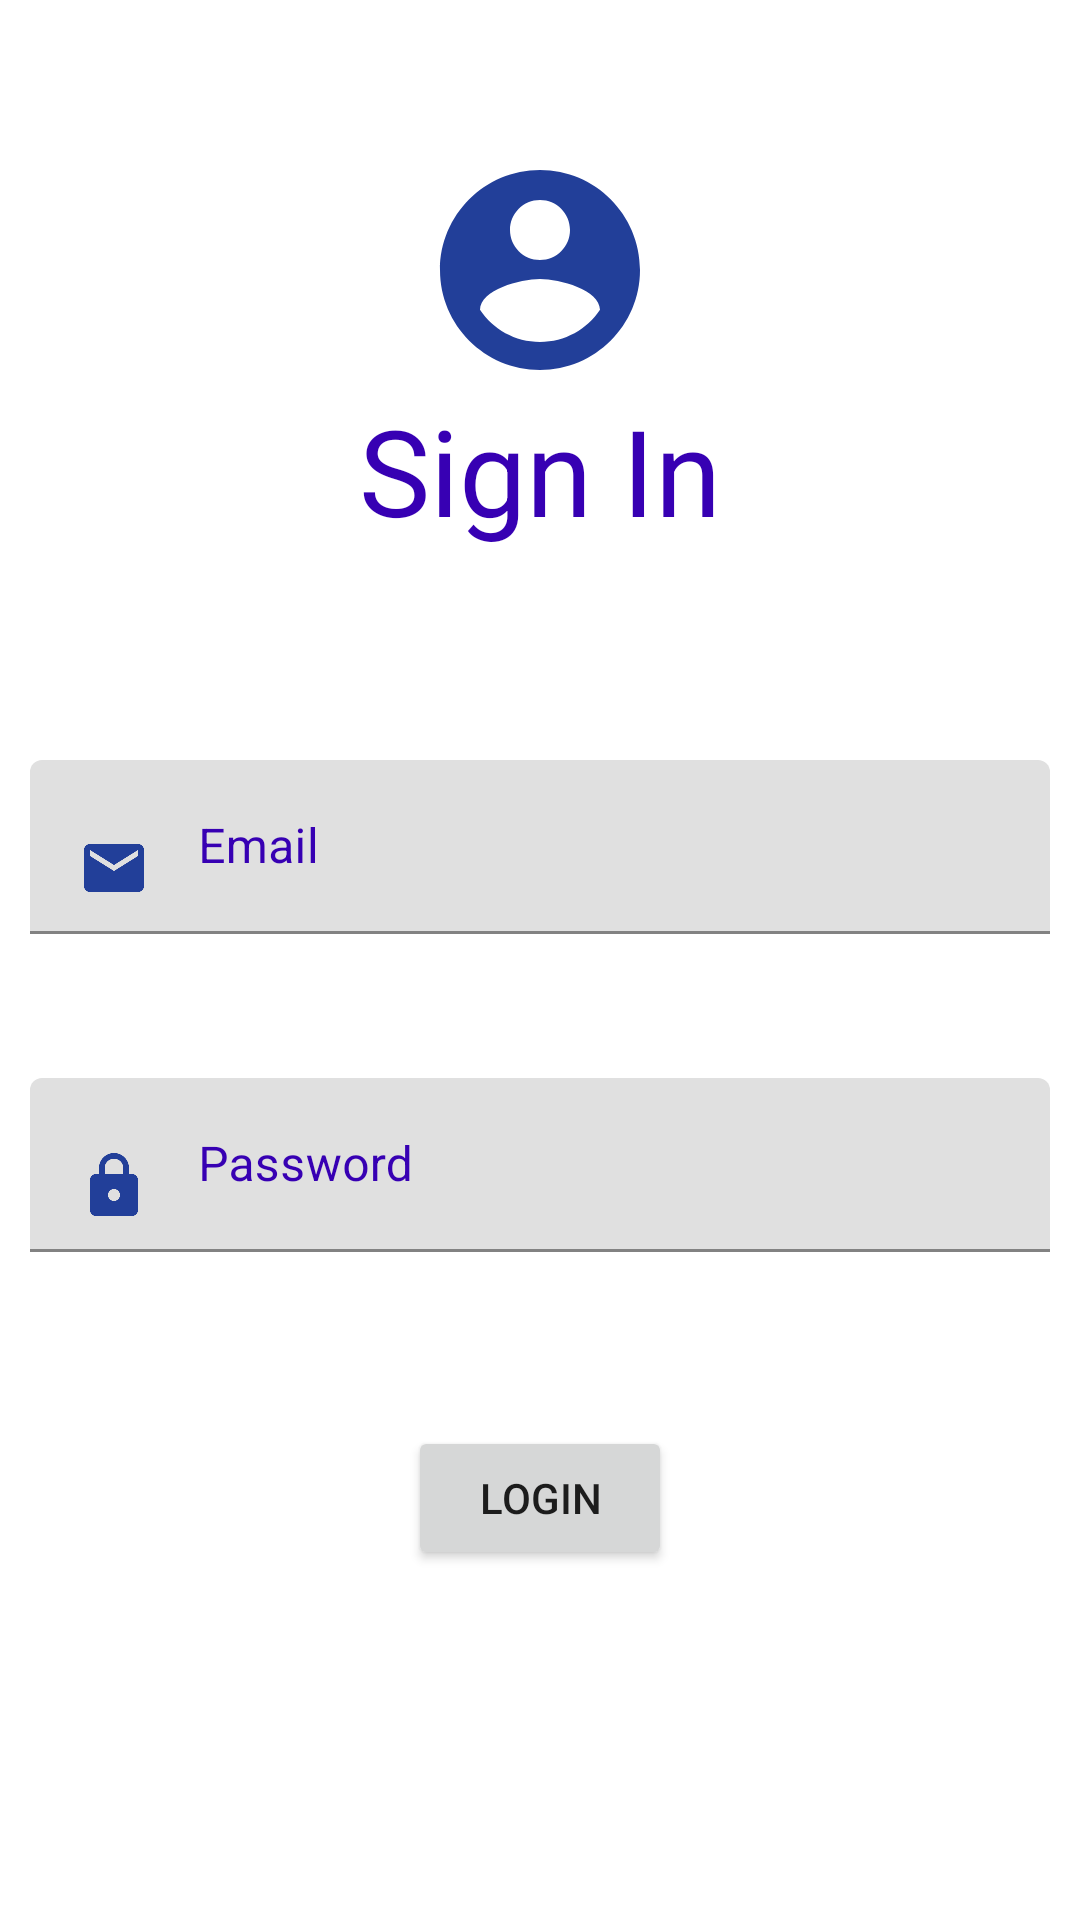

Icons on this 1080×1920 Android screen, each with the point to tap as (x=x, y=y):
account circle: (x=540, y=270)
